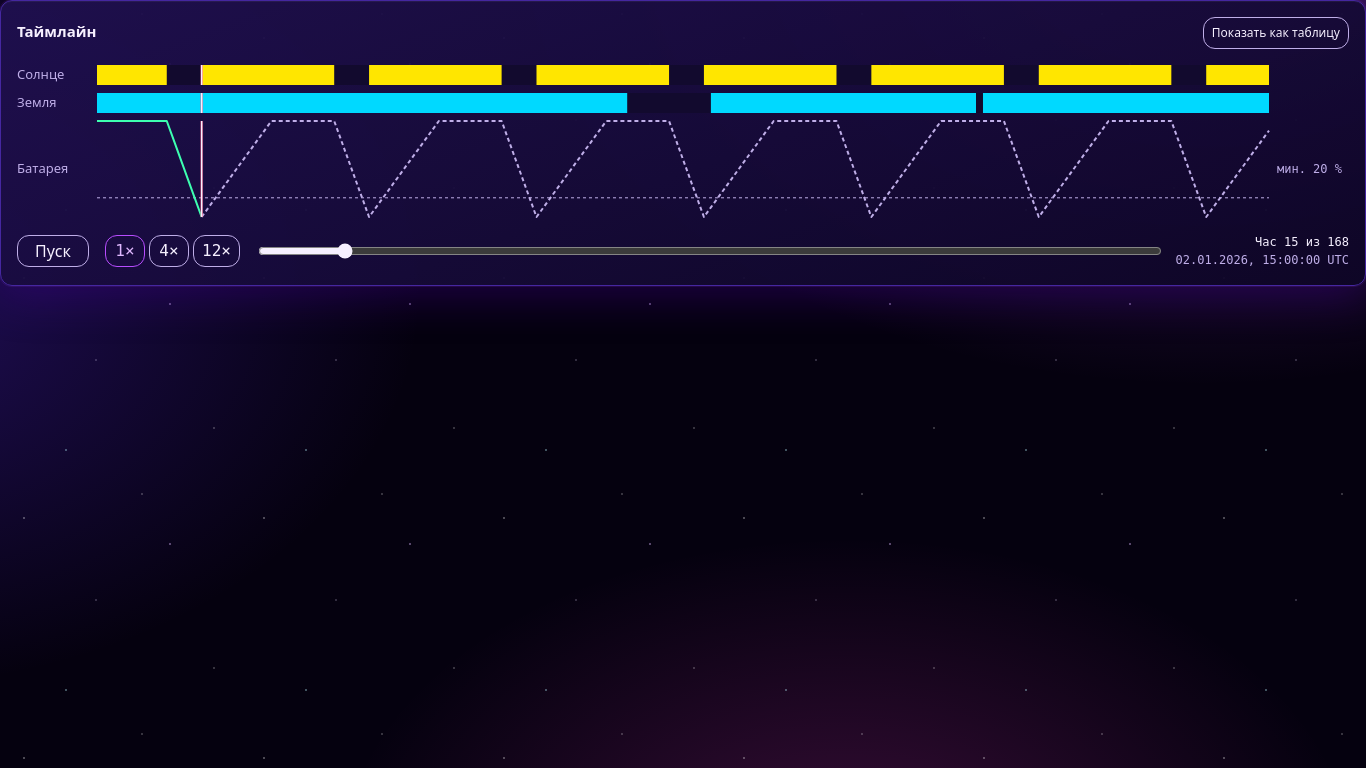
Test case: timeline table › marks the failure hour and the selected hour
Click the button "Показать как таблицу": click(1276, 33) [1203,17,1349,49]
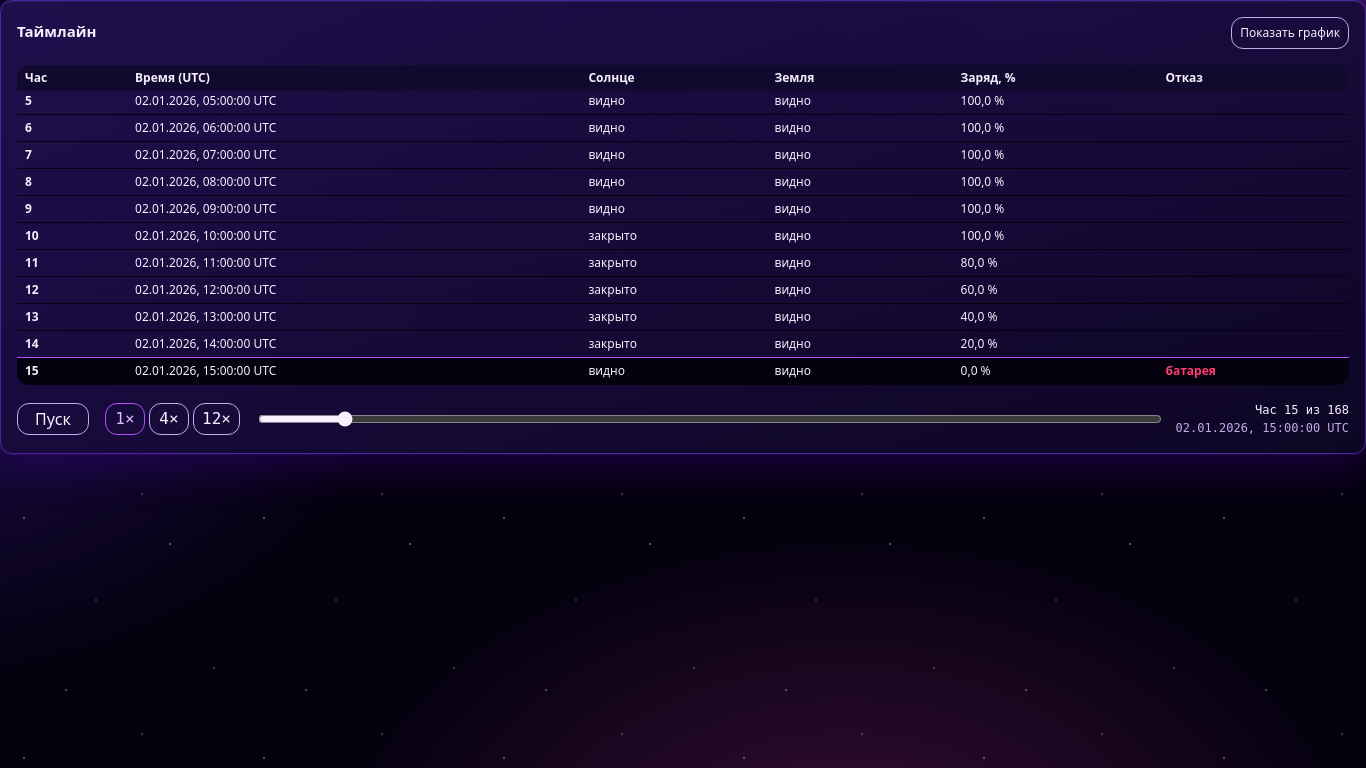
Now the row "15 02.01.2026, 15:00:00 UTC видно видно 0,0 % батарея" is shown, box [17,358,1349,384]
